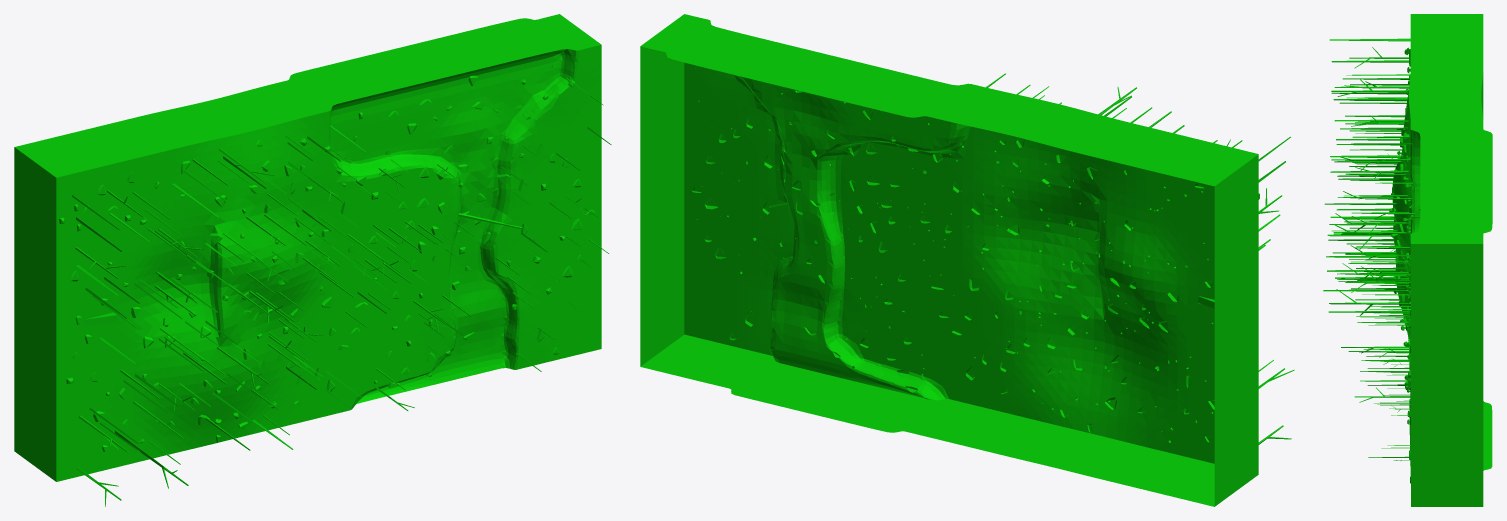
The model's file is debug_0005_dec.obj.
3 views of the same model, side by side, from view 1: azimuth 30°, elevation 25°; view 2: azimuth 150°, elevation 25°; view 3: azimuth 270°, elevation 25° (orthographic). The views are drawn at different scales.
Visible parts, largest first — view 1: COLLIDE.057_Cube.073; view 2: COLLIDE.057_Cube.073; view 3: COLLIDE.057_Cube.073.
Boxes of the visible parts, left/top/right/bottom form: COLLIDE.057_Cube.073: left=14, top=14, right=611, bottom=506; COLLIDE.057_Cube.073: left=640, top=14, right=1294, bottom=506; COLLIDE.057_Cube.073: left=1323, top=14, right=1492, bottom=506.
Size of the model in its own units: 3001 by 1626 by 935.
